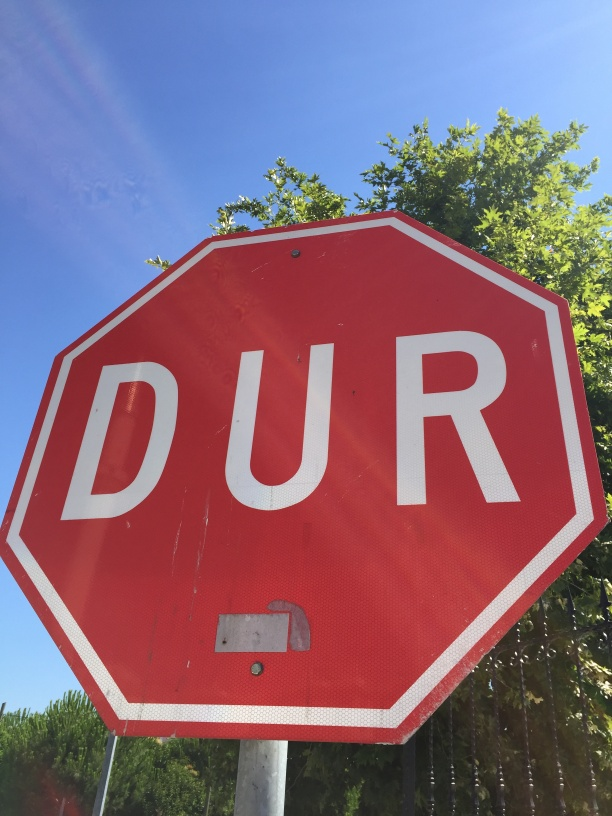arac_dur_isareti: (30, 175, 522, 770)
